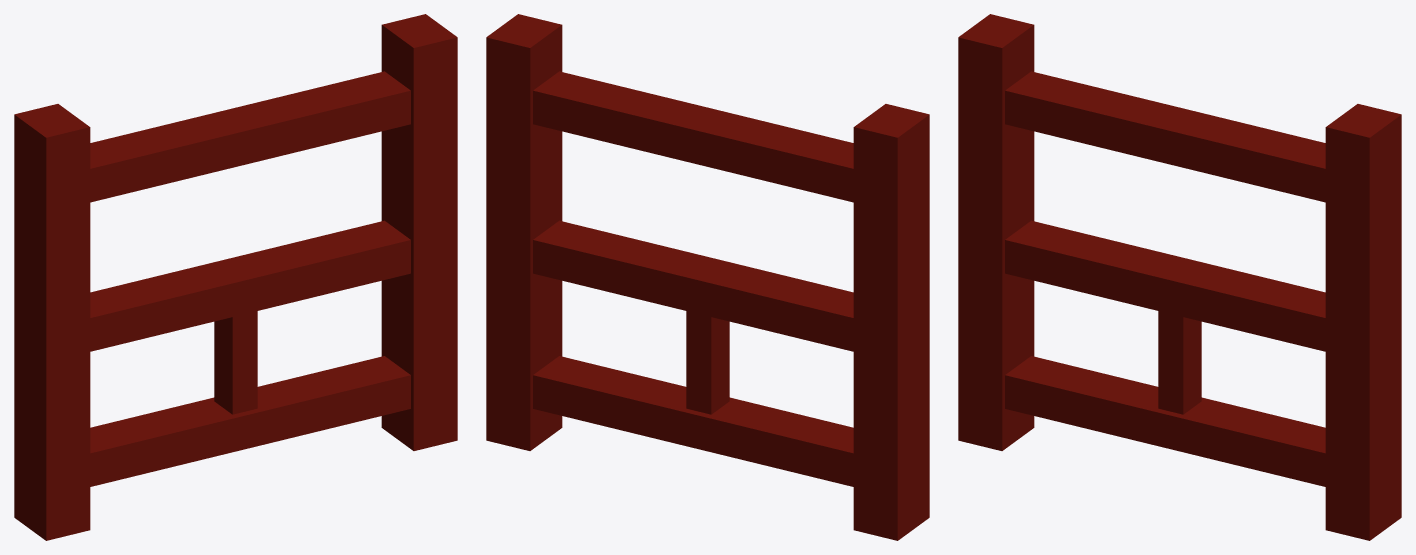
Rendered from fenceC.fbx.
3 views of the same model, side by side, from view 1: azimuth 30°, elevation 25°; view 2: azimuth 150°, elevation 25°; view 3: azimuth 330°, elevation 25° (orthographic).
Visible parts, largest first — view 1: Fence; view 2: Fence; view 3: Fence.
Part boxes in pixels (<box>): Fence: <box>14,14,457,540</box>; Fence: <box>486,14,929,540</box>; Fence: <box>958,14,1401,540</box>.
Bounding box in the file's own units: 42.47 × 39.75 × 5.71.
